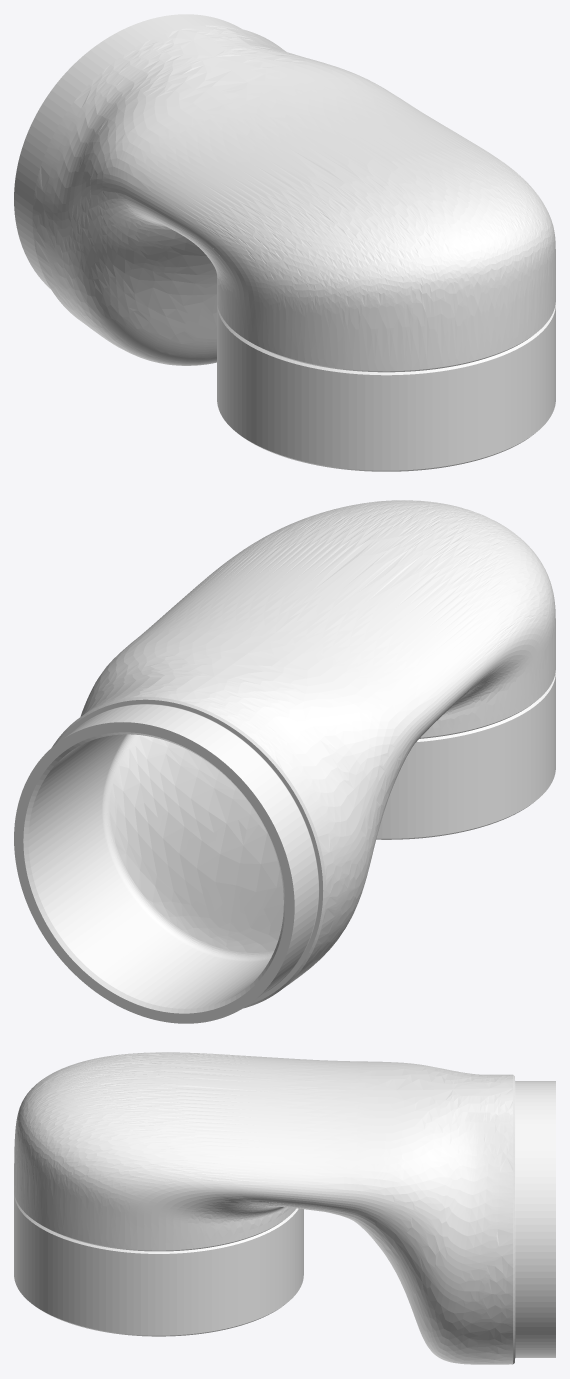
The model's file is Kinova7dof_shoulder.obj.
3 renders of one model, top to bottom at view 1: azimuth 30°, elevation 25°; view 2: azimuth 150°, elevation 25°; view 3: azimuth 270°, elevation 25°, orthographic. The views are drawn at different scales.
Visible parts, largest first — view 1: Kinova7dof_shoulder; view 2: Kinova7dof_shoulder; view 3: Kinova7dof_shoulder.
Part boxes in pixels (x1,y1,x2,y2): Kinova7dof_shoulder: (14, 14, 555, 471); Kinova7dof_shoulder: (14, 500, 555, 1023); Kinova7dof_shoulder: (14, 1052, 555, 1364).
Bounding box in the file's own units: 0.0927 × 0.0947 × 0.172.
Materials: 1 (1 with a texture image).
